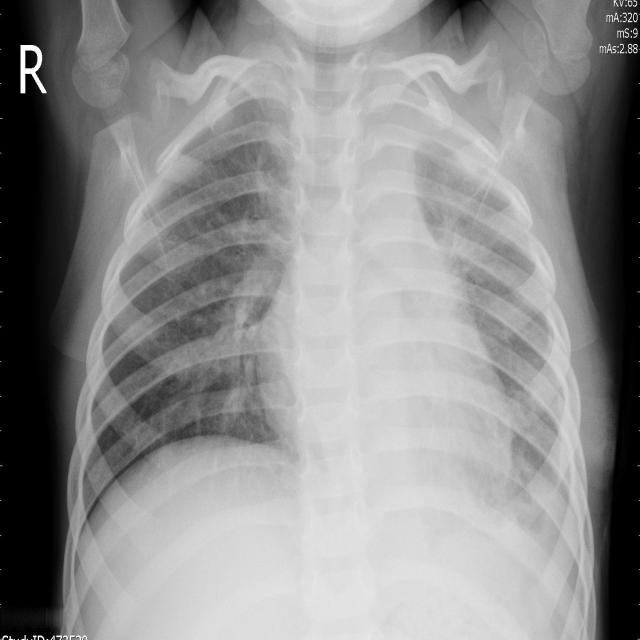low-pneumonia: (416, 123, 524, 318), (227, 95, 290, 326), (499, 331, 563, 496), (182, 317, 269, 436)
